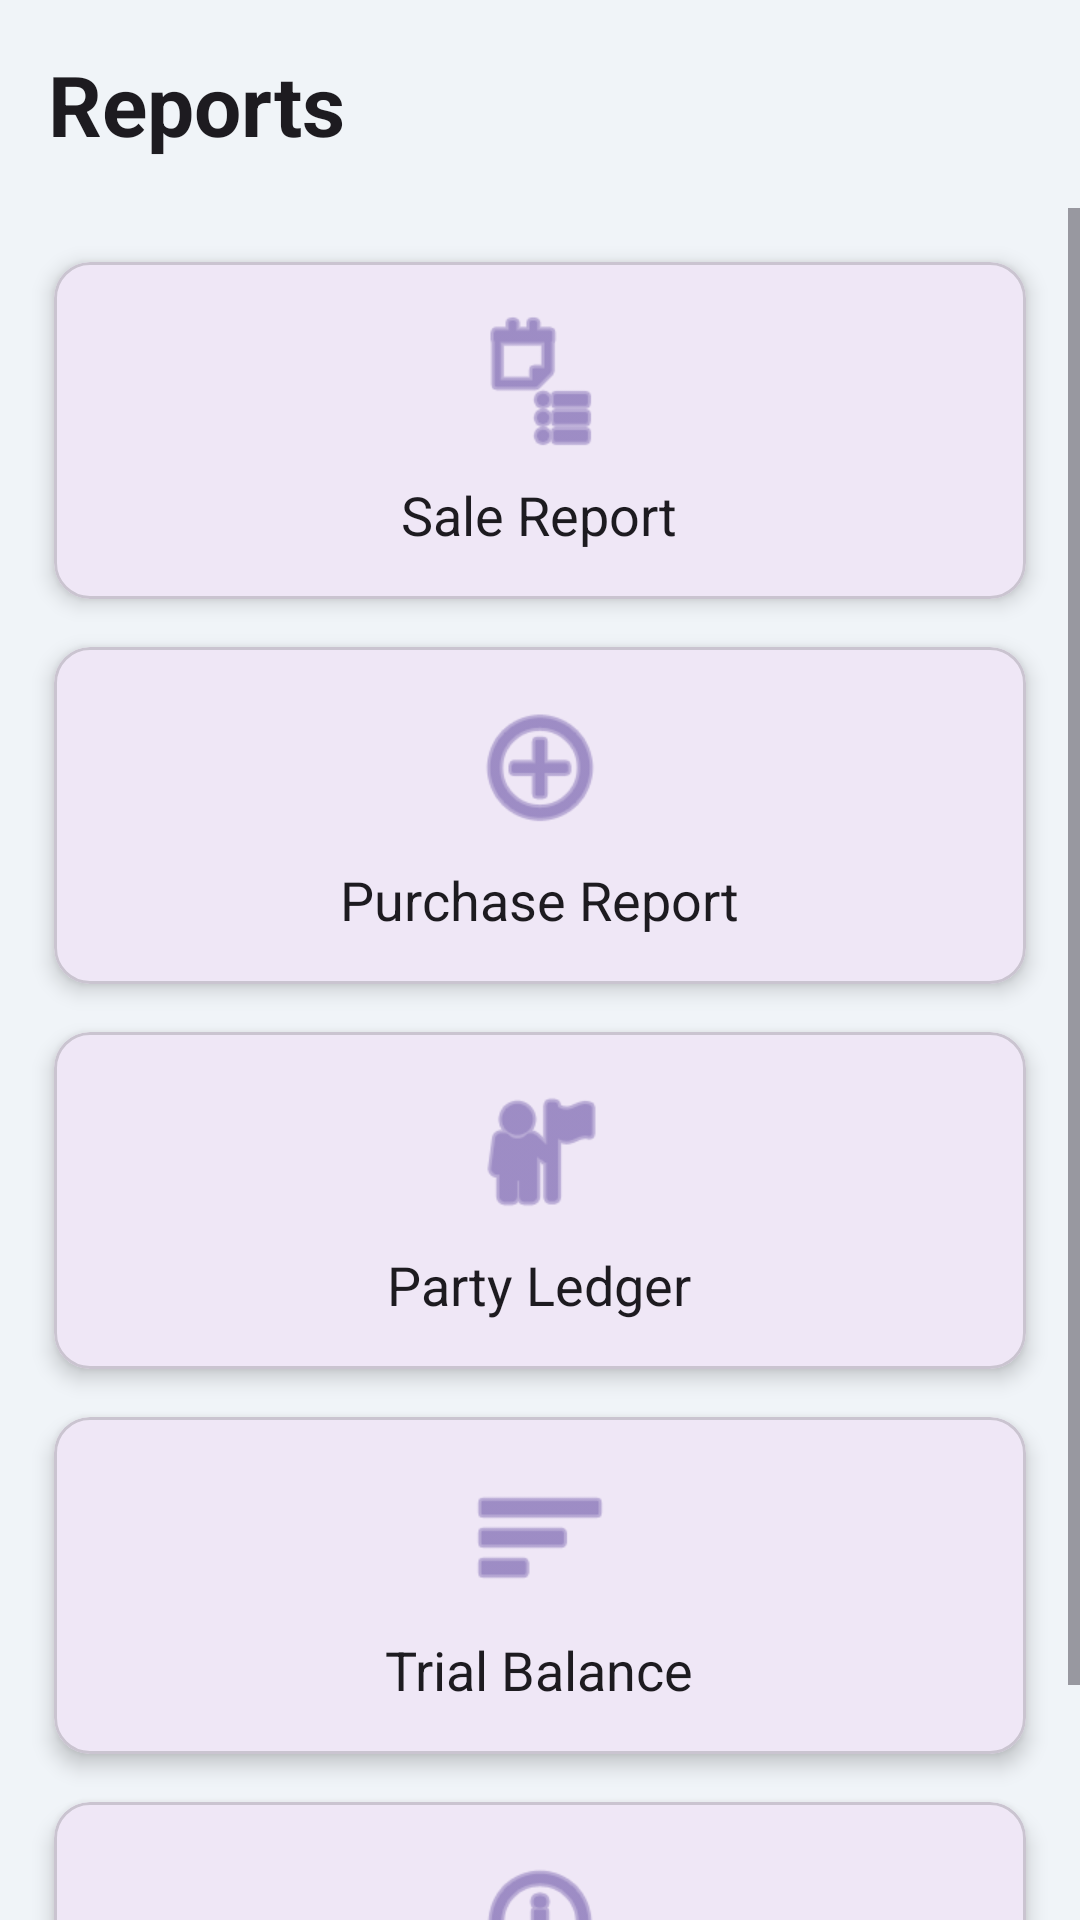

Icons on this 1080×1920 Android screen, each with the point to tap as point (x, y):
add: point (540, 767)
agenda: point (540, 381)
myplaces: point (541, 1152)
sort by size: point (540, 1538)
